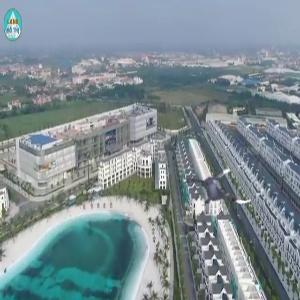drone: (190, 157, 255, 222)
